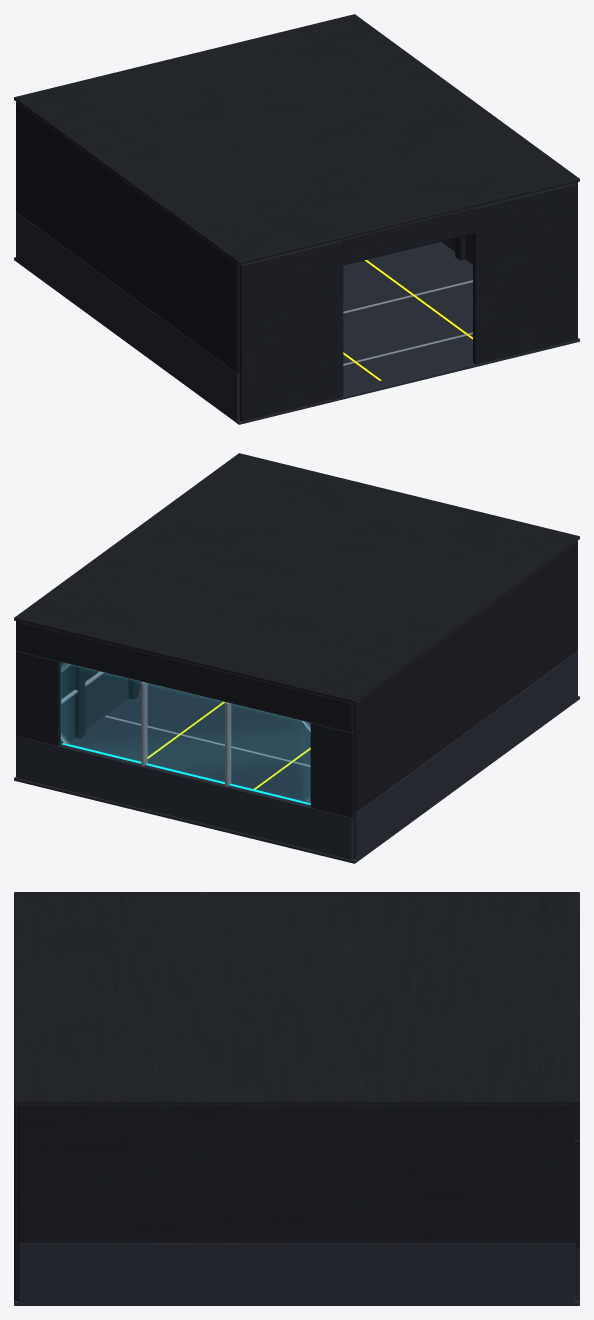
The model's file is room_03_mess_galley_shell.glb.
The picture shows the model from 3 angles, top to bottom: view 1: azimuth 30°, elevation 25°; view 2: azimuth 150°, elevation 25°; view 3: azimuth 270°, elevation 25°; orthographic projection. The views are drawn at different scales.
Parts seen in each view (by area): view 1: Room03_OctagonalGunmetalRibsAndWalls, Room03_CarbonSlateDeckAndWainscot, Room03_MachinedSteelBezelsAndStrips; view 2: Room03_OctagonalGunmetalRibsAndWalls, Room03_CarbonSlateDeckAndWainscot, Room03_NorthPanoramicTranslucentGlass, Room03_MachinedSteelBezelsAndStrips, Room03_OrbitalCyanCovesAndWindowRim; view 3: Room03_OctagonalGunmetalRibsAndWalls, Room03_CarbonSlateDeckAndWainscot.
Part boxes in pixels (x1,y1,x2,y2): Room03_OctagonalGunmetalRibsAndWalls: (14,14,579,421); Room03_CarbonSlateDeckAndWainscot: (14,212,579,424); Room03_MachinedSteelBezelsAndStrips: (343,280,472,365); Room03_OctagonalGunmetalRibsAndWalls: (14,453,579,818); Room03_CarbonSlateDeckAndWainscot: (14,651,579,863); Room03_NorthPanoramicTranslucentGlass: (61,662,309,804); Room03_MachinedSteelBezelsAndStrips: (61,663,310,802); Room03_OrbitalCyanCovesAndWindowRim: (62,743,310,804); Room03_OctagonalGunmetalRibsAndWalls: (14,892,579,1300); Room03_CarbonSlateDeckAndWainscot: (14,1243,579,1305).
Bounding box in the file's own units: 7 × 3.2 × 8.
7 materials, 7 textured.
